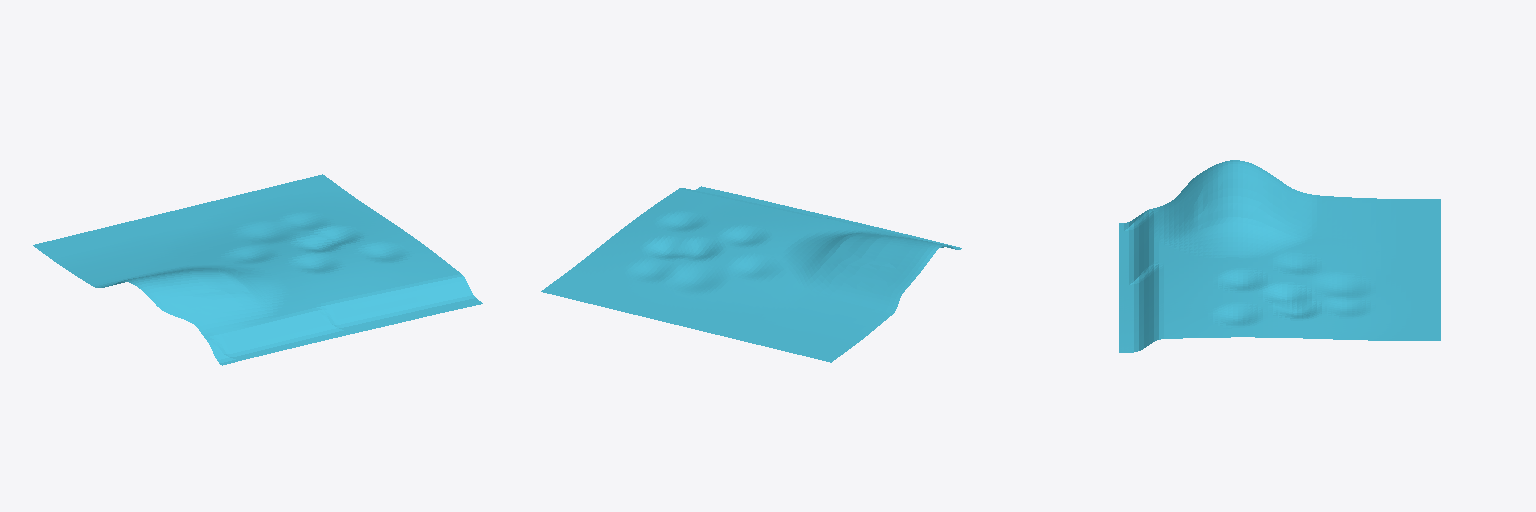
File: Ground.obj
3 renders of one model, left to right at view 1: azimuth 30°, elevation 25°; view 2: azimuth 150°, elevation 25°; view 3: azimuth 270°, elevation 25°, orthographic.
Visible parts, largest first — view 1: Plane001; view 2: Plane001; view 3: Plane001.
Boxes of the visible parts, <box> form: Plane001: <box>33,174,482,365</box>; Plane001: <box>541,186,961,362</box>; Plane001: <box>1119,160,1440,352</box>.
Size of the model in its own units: 181 by 29.41 by 171.